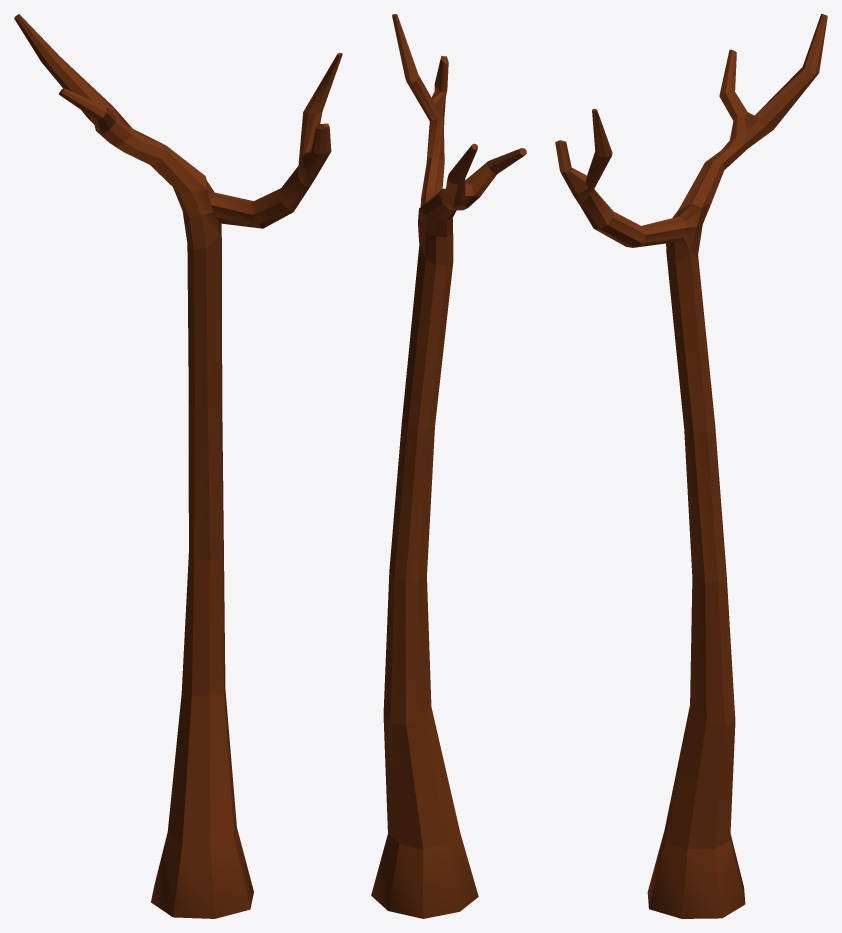
Rendered from TreeTrunk_42.fbx.
3 renders of one model, left to right at view 1: azimuth 30°, elevation 25°; view 2: azimuth 150°, elevation 25°; view 3: azimuth 270°, elevation 25°, orthographic. The views are drawn at different scales.
Visible parts, largest first — view 1: TreeTrunk_42; view 2: TreeTrunk_42; view 3: TreeTrunk_42.
Part boxes in pixels (<box>): TreeTrunk_42: <box>14,14,342,918</box>; TreeTrunk_42: <box>371,14,526,918</box>; TreeTrunk_42: <box>555,14,827,918</box>.
Bounding box in the file's own units: 98.88 × 385 × 115.
